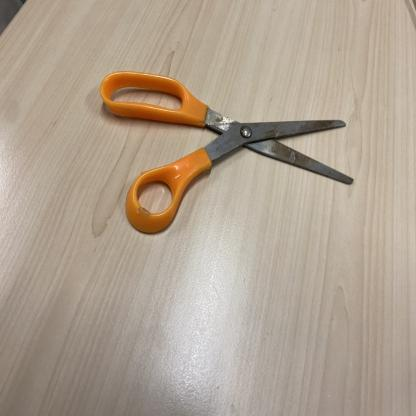scissors: (98, 70, 354, 237)
